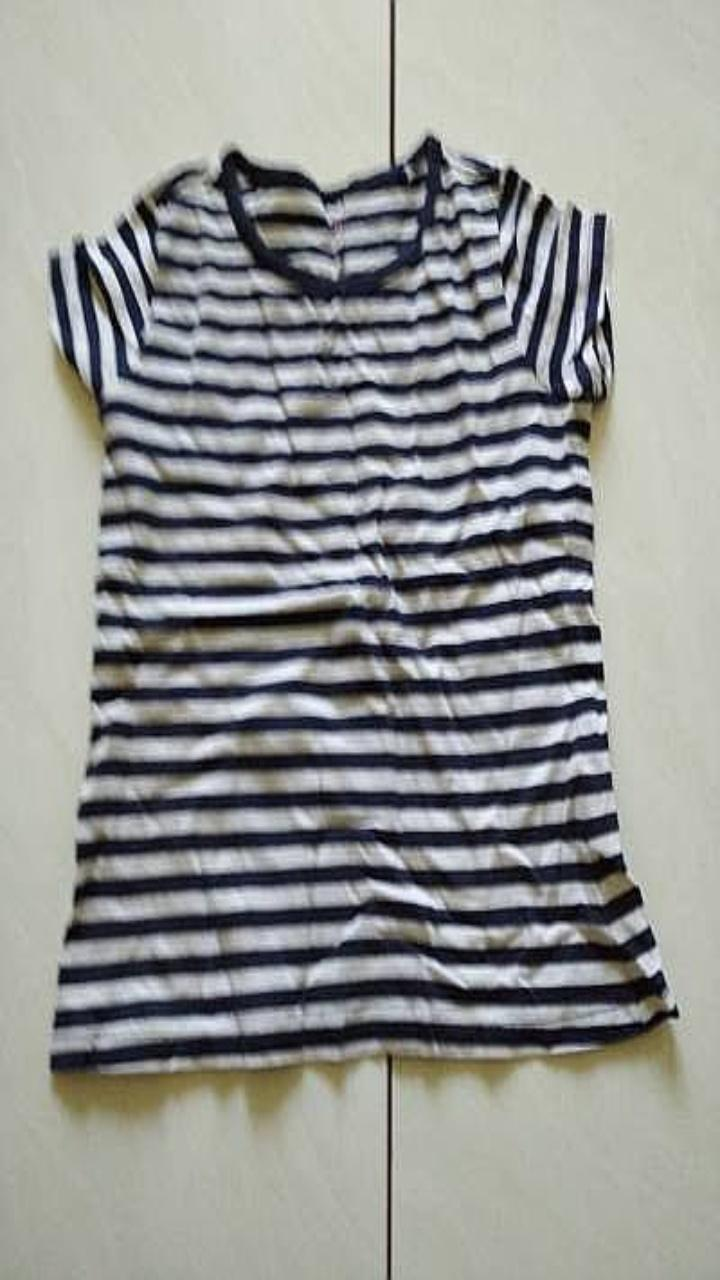T-Shirt: (49, 132, 678, 1072)
